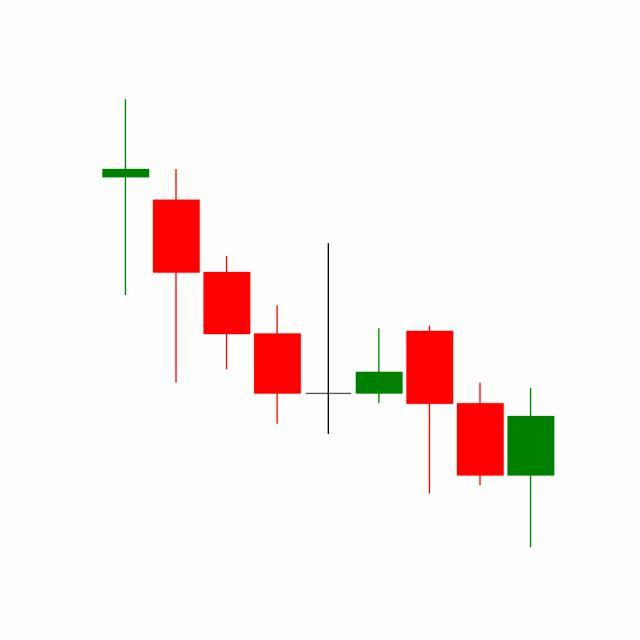Hikkake Pattern: (302, 239, 555, 548)
